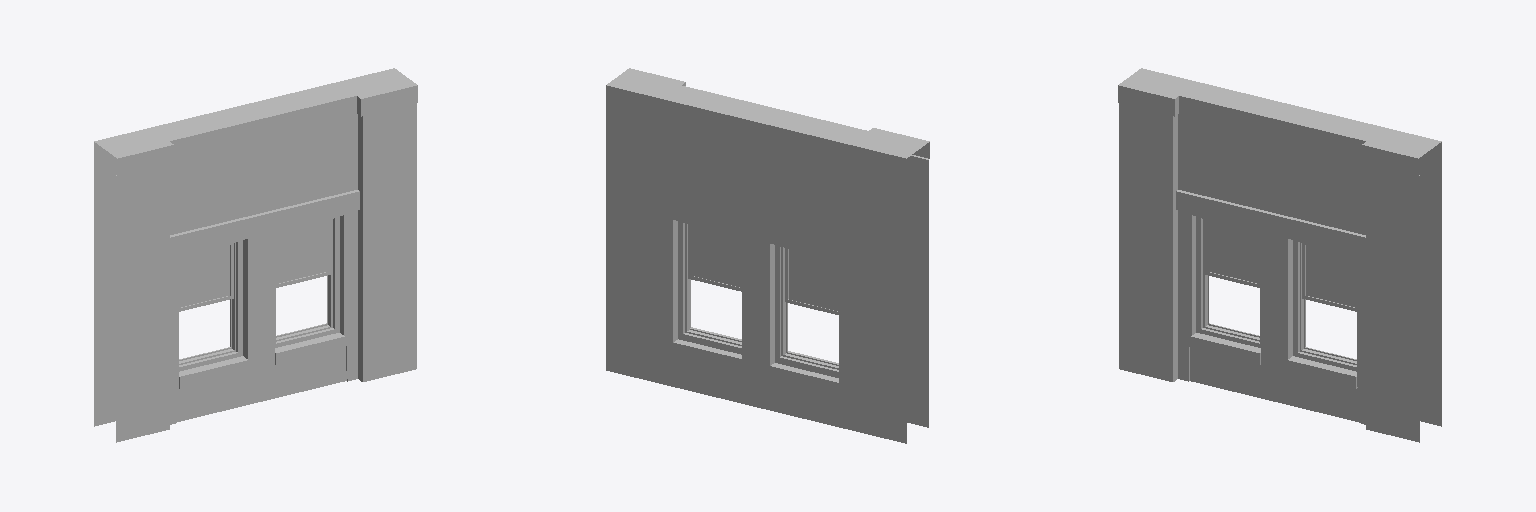
File: Building_Top_Straight_A_LOD0.obj
3 renders of one model, left to right at view 1: azimuth 30°, elevation 25°; view 2: azimuth 150°, elevation 25°; view 3: azimuth 330°, elevation 25°, orthographic.
Visible parts, largest first — view 1: Building_Top_Straight_A_LOD0 Building_Top_Straight_A; view 2: Building_Top_Straight_A_LOD0 Building_Top_Straight_A; view 3: Building_Top_Straight_A_LOD0 Building_Top_Straight_A.
Boxes of the visible parts, x1,y1,x2,y2 form: Building_Top_Straight_A_LOD0 Building_Top_Straight_A: [94, 68, 417, 442]; Building_Top_Straight_A_LOD0 Building_Top_Straight_A: [606, 68, 929, 443]; Building_Top_Straight_A_LOD0 Building_Top_Straight_A: [1118, 68, 1441, 442].
Bounding box in the file's own units: 500 × 453 × 67.75.